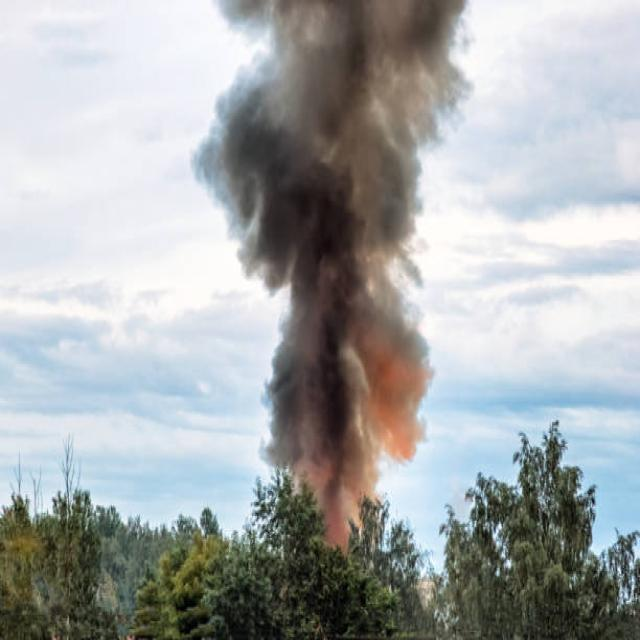Smoke: (230, 0, 450, 505)
